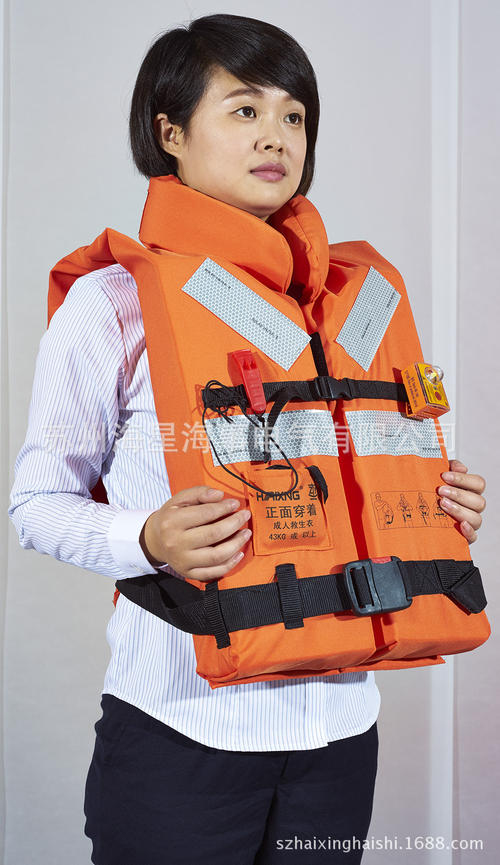reflective_clothes: (67, 165, 478, 762)
